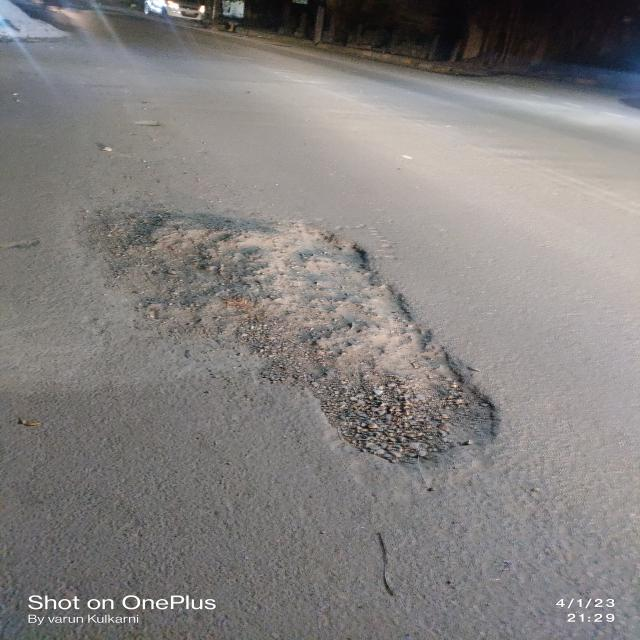potholes: (115, 209, 516, 470)
